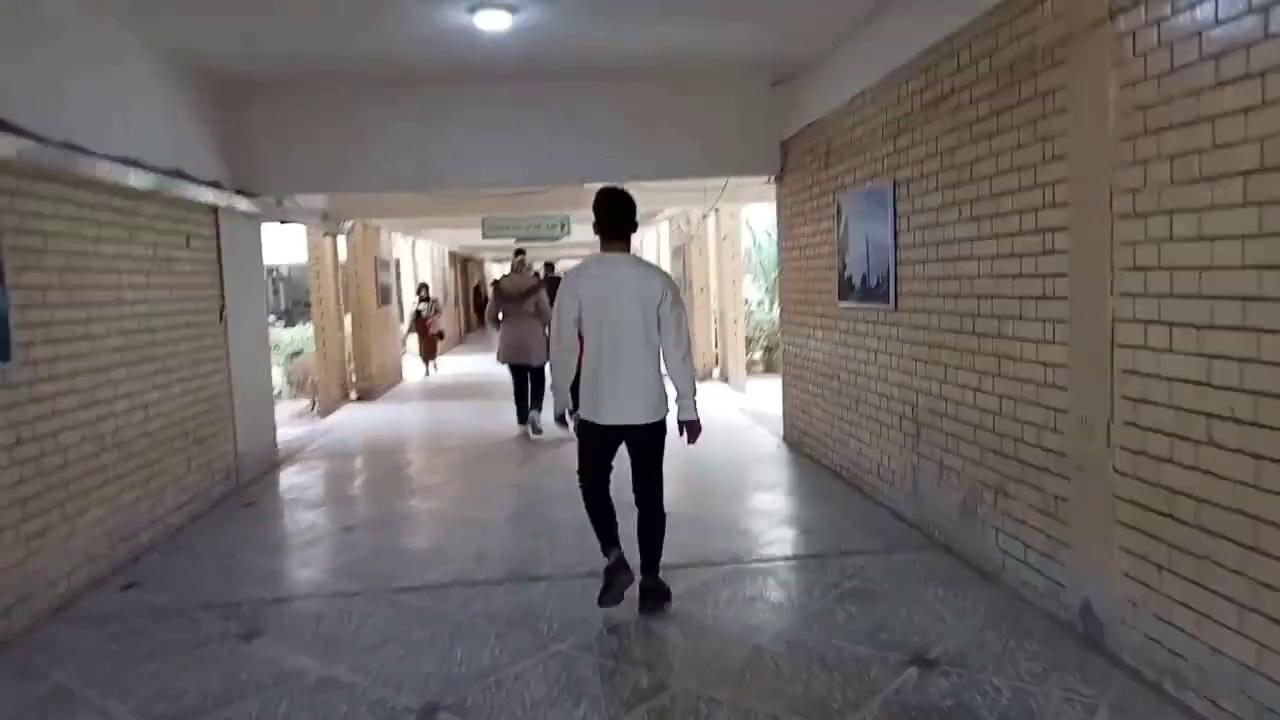person: (548, 185, 702, 611), (485, 248, 552, 435), (400, 282, 444, 376), (472, 281, 487, 327)
tree: (741, 217, 781, 373)
